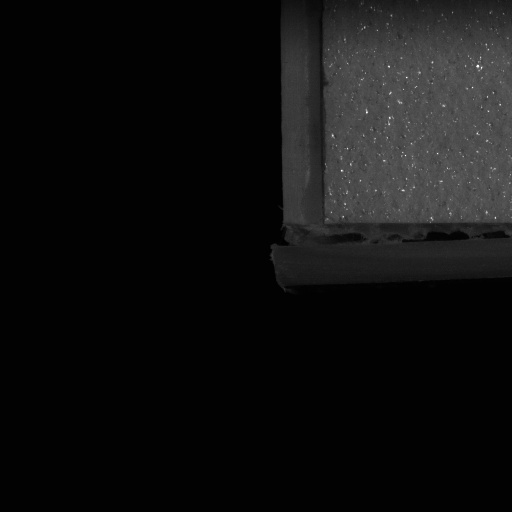kaijiao: (266, 218, 511, 292)
